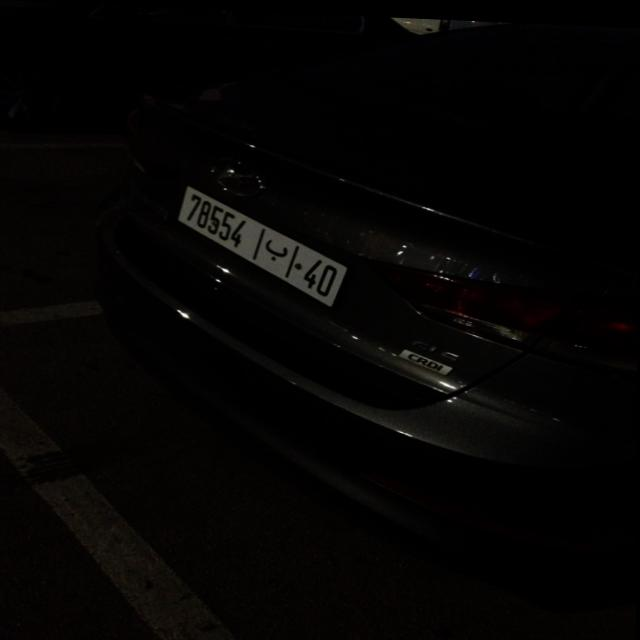License-Plate: (179, 184, 347, 302)
